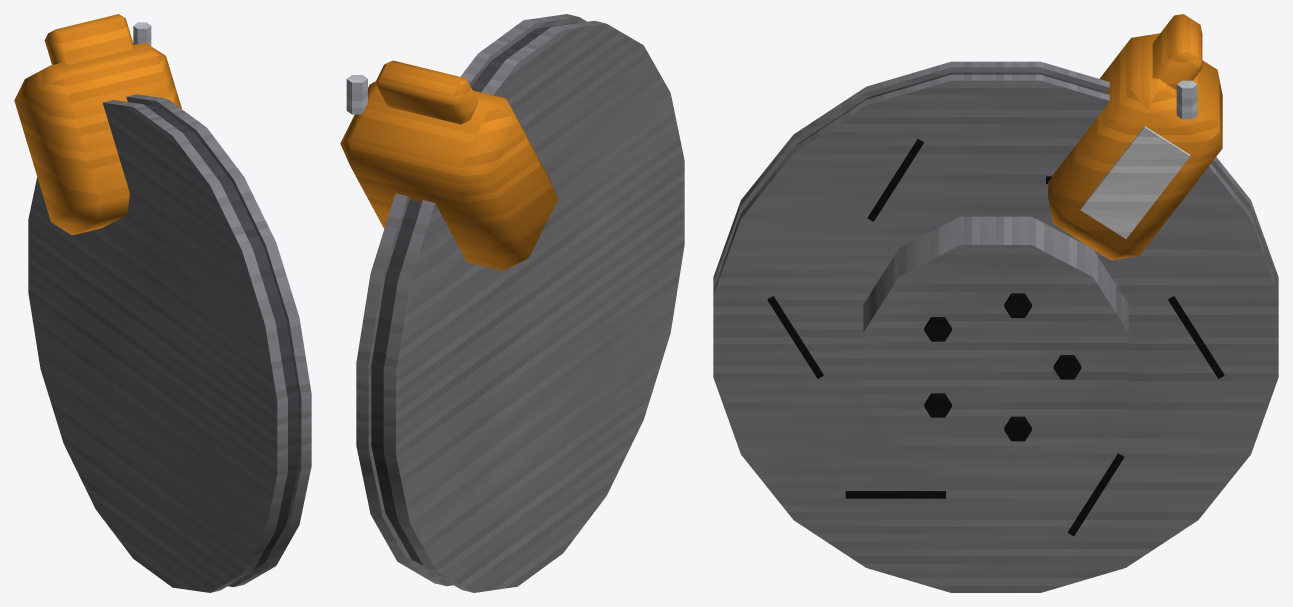
The model's file is discos_n3.glb.
3 renders of one model, left to right at view 1: azimuth 30°, elevation 25°; view 2: azimuth 150°, elevation 25°; view 3: azimuth 270°, elevation 25°, orthographic. The views are drawn at different scales.
Visible parts, largest first — view 1: discos_n3; view 2: discos_n3; view 3: discos_n3.
Boxes of the visible parts, box(x1,y1,x2,y2) form: discos_n3: box(14, 14, 311, 592); discos_n3: box(340, 14, 684, 592); discos_n3: box(713, 14, 1278, 592).
Size of the model in its own units: 0.105 by 0.3533 by 0.3279.
Materials: 2 (2 with a texture image).
